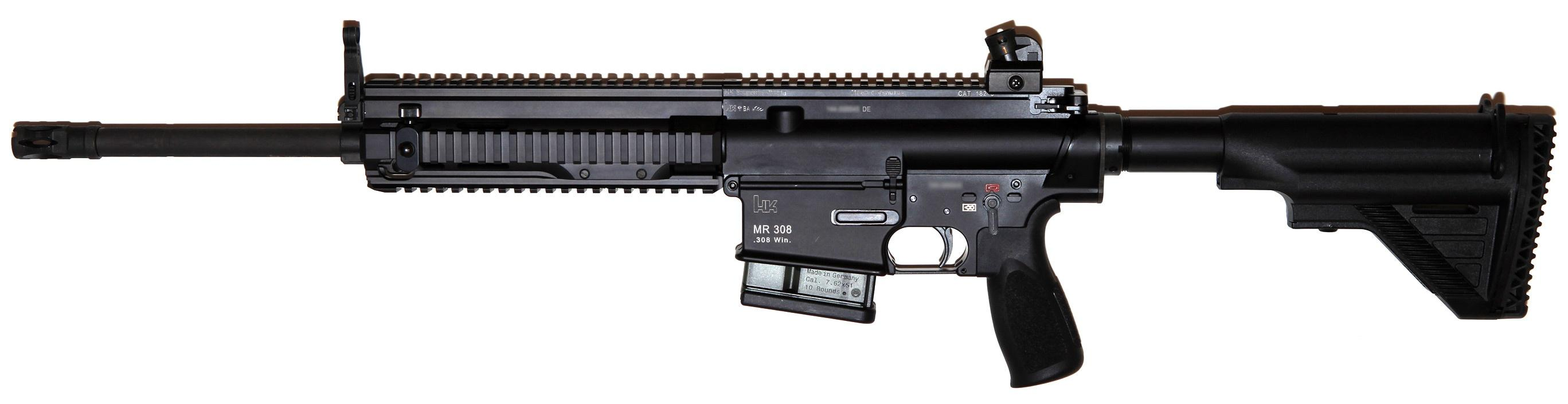gun: (0, 0, 1562, 403)
